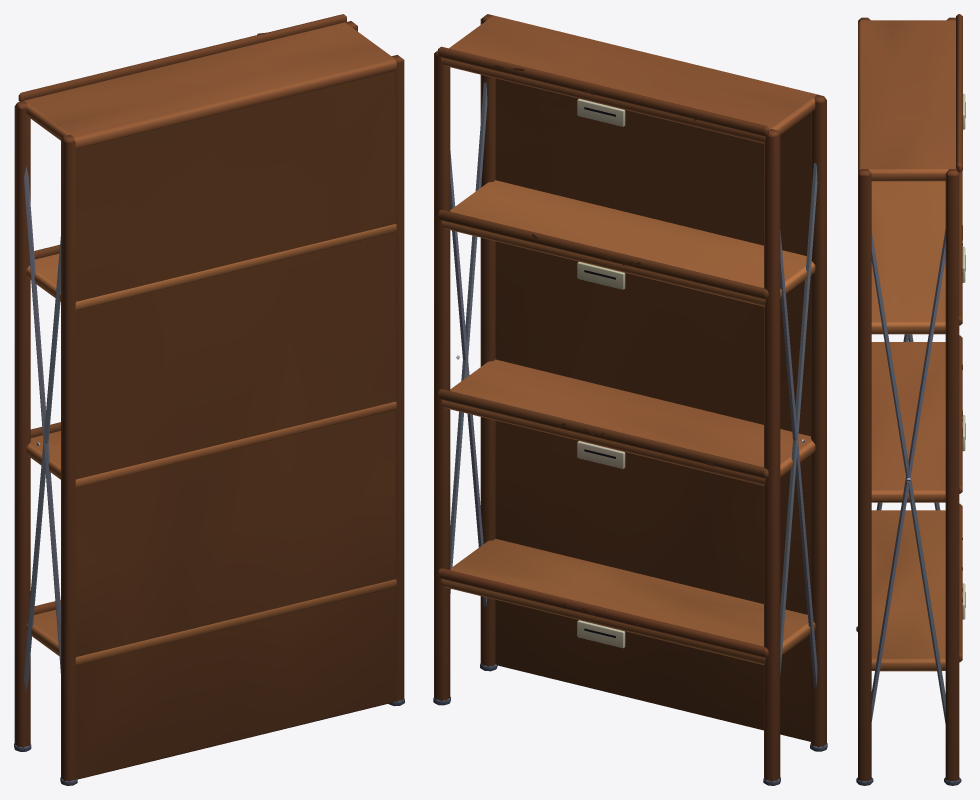
The model's file is SM_Warehouse_ShelfUnit.fbx.
3 views of the same model, side by side, from view 1: azimuth 30°, elevation 25°; view 2: azimuth 150°, elevation 25°; view 3: azimuth 270°, elevation 25° (orthographic). The views are drawn at different scales.
Visible parts, largest first — view 1: SM_Warehouse_ShelfUnit; view 2: SM_Warehouse_ShelfUnit; view 3: SM_Warehouse_ShelfUnit.
Part boxes in pixels (<box>): SM_Warehouse_ShelfUnit: <box>14,14,404,785</box>; SM_Warehouse_ShelfUnit: <box>433,14,827,785</box>; SM_Warehouse_ShelfUnit: <box>856,14,965,785</box>.
Size of the model in its own units: 223 by 404 by 64.93.
